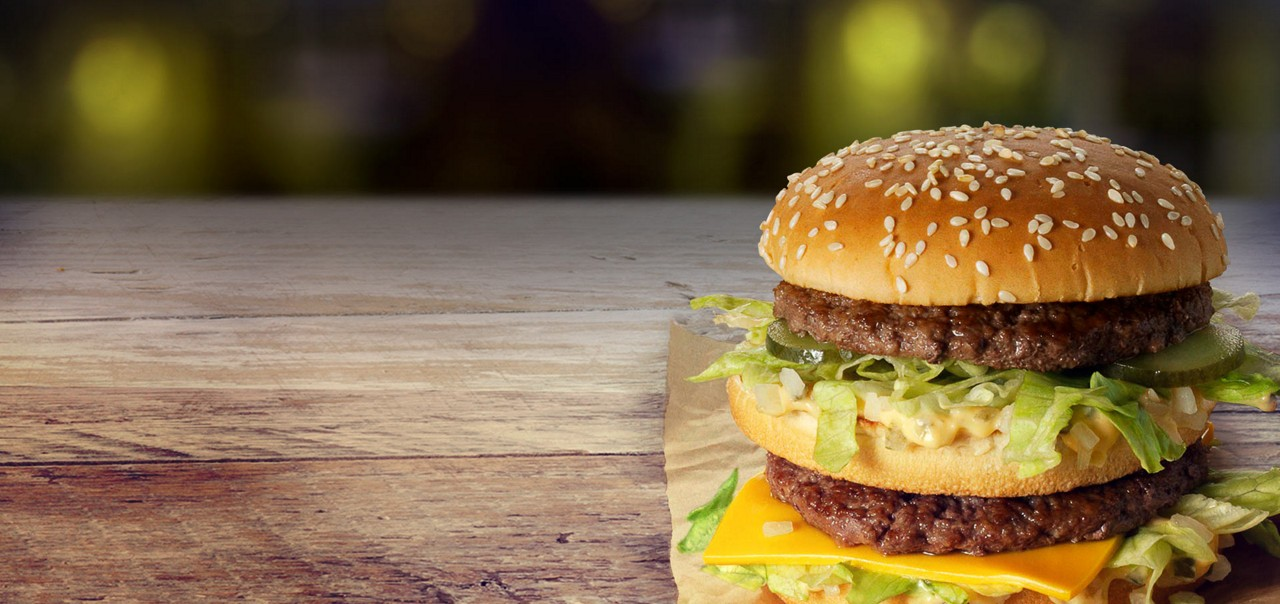hamburger: (712, 92, 1249, 604)
